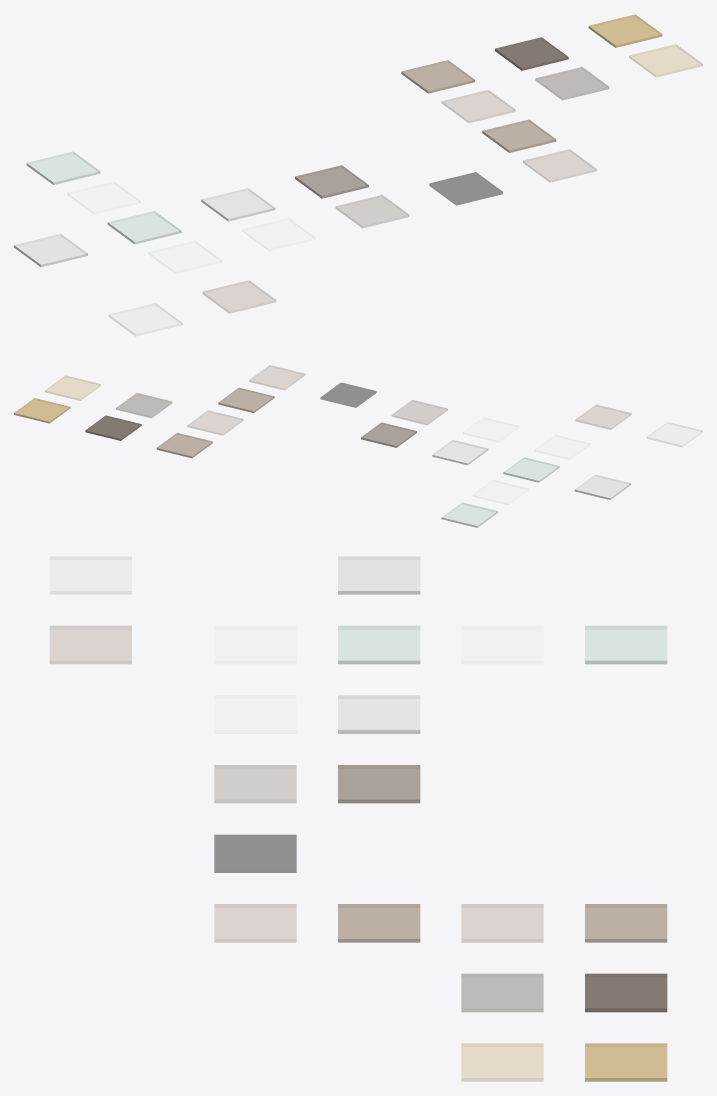
Rendered from finiture-vetri.glb.
The picture shows the model from 3 angles, top to bottom: view 1: azimuth 30°, elevation 25°; view 2: azimuth 150°, elevation 25°; view 3: azimuth 270°, elevation 25°; orthographic projection. The views are drawn at different scales.
Visible parts, largest first — view 1: VET_TSL_acidato, VET_TSL_acidatoextrachiaro, VET_TSL_bronzoacidato, VET_TSL_neutroreflexsatinato, VET_TSL_goldreflezacidato, VET_TSL_smokedreflexsatinato, VET_TSL_bronzoreflezacidato, VET_TSL_fumèacidato, VET_TSL_biancolatte, VET_SPE_specchiobronzo, VET_TSL_bronzo, VET_TSL_bronzoreflex (+8 smaller); view 2: VET_TSL_acidato, VET_TSL_neutroreflexsatinato, VET_TSL_acidatoextrachiaro, VET_TSL_bronzoacidato, VET_TSL_bronzoreflezacidato, VET_TSL_biancolatte, VET_TSL_goldreflezacidato, VET_TSL_smokedreflexsatinato, VET_TSL_fumèacidato, VET_TSL_bronzoreflex, VET_TSL_darkgray, VET_TSL_fumè (+8 smaller); view 3: VET_TSL_acidato, VET_TSL_neutroreflexsatinato, VET_TSL_smokedreflexsatinato, VET_TSL_acidatoextrachiaro, VET_TSL_biancolatte, VET_TSL_bronzo, VET_TSL_bronzoacidato, VET_TSL_bronzoreflex, VET_TSL_bronzoreflezacidato, VET_TSL_goldreflex, VET_TSL_goldreflezacidato, VET_TSL_fumèacidato (+8 smaller).
Part boxes in pixels (x1,y1,x2,y2): VET_TSL_acidato: [107, 211, 181, 244]; VET_TSL_acidatoextrachiaro: [201, 188, 275, 221]; VET_TSL_bronzoacidato: [482, 119, 556, 152]; VET_TSL_neutroreflexsatinato: [26, 151, 100, 184]; VET_TSL_goldreflezacidato: [588, 14, 662, 47]; VET_TSL_smokedreflexsatinato: [495, 37, 568, 70]; VET_TSL_bronzoreflezacidato: [401, 60, 474, 93]; VET_TSL_fumèacidato: [295, 165, 368, 198]; VET_TSL_biancolatte: [14, 233, 87, 267]; VET_SPE_specchiobronzo: [202, 280, 275, 313]; VET_TSL_bronzo: [523, 149, 596, 182]; VET_TSL_bronzoreflex: [442, 90, 515, 122]; VET_TSL_acidato: [503, 457, 559, 482]; VET_TSL_neutroreflexsatinato: [441, 502, 497, 527]; VET_TSL_acidatoextrachiaro: [432, 440, 488, 465]; VET_TSL_bronzoacidato: [218, 387, 274, 412]; VET_TSL_bronzoreflezacidato: [156, 433, 212, 458]; VET_TSL_biancolatte: [574, 474, 630, 499]; VET_TSL_goldreflezacidato: [14, 398, 70, 423]; VET_TSL_smokedreflexsatinato: [85, 415, 141, 440]; VET_TSL_fumèacidato: [361, 422, 416, 447]; VET_TSL_bronzoreflex: [187, 410, 243, 435]; VET_TSL_darkgray: [320, 382, 376, 407]; VET_TSL_fumè: [392, 400, 447, 424]; VET_TSL_acidato: [338, 625, 420, 664]; VET_TSL_neutroreflexsatinato: [585, 625, 667, 664]; VET_TSL_smokedreflexsatinato: [585, 973, 667, 1012]; VET_TSL_acidatoextrachiaro: [338, 695, 420, 733]; VET_TSL_biancolatte: [338, 556, 420, 594]; VET_TSL_bronzo: [214, 904, 296, 942]; VET_TSL_bronzoacidato: [338, 904, 420, 942]; VET_TSL_bronzoreflex: [461, 904, 543, 942]; VET_TSL_bronzoreflezacidato: [585, 904, 667, 942]; VET_TSL_goldreflex: [461, 1043, 543, 1081]; VET_TSL_goldreflezacidato: [585, 1043, 667, 1081]; VET_TSL_fumèacidato: [338, 765, 420, 803].
Size of the model in its own units: 30 by 0.1 by 15.
